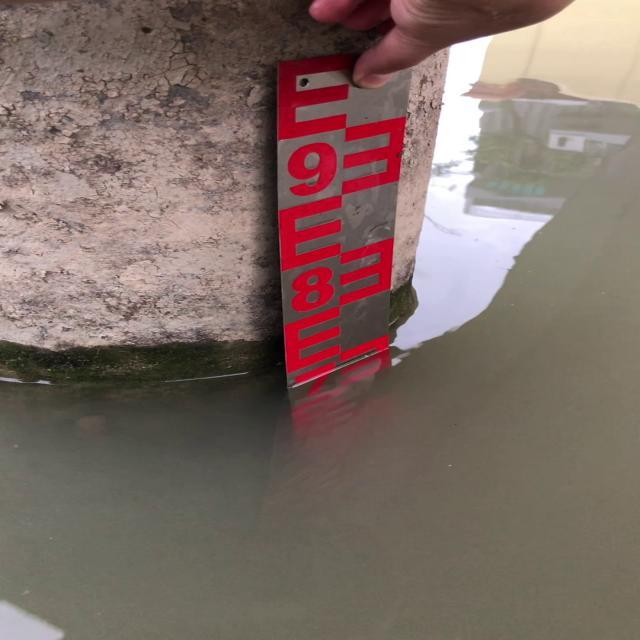ruler: (257, 35, 433, 405)
value: (279, 134, 347, 209), (282, 262, 342, 319)
